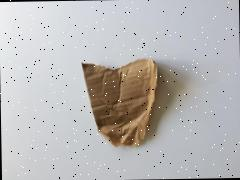cardboard: (68, 46, 184, 160)
